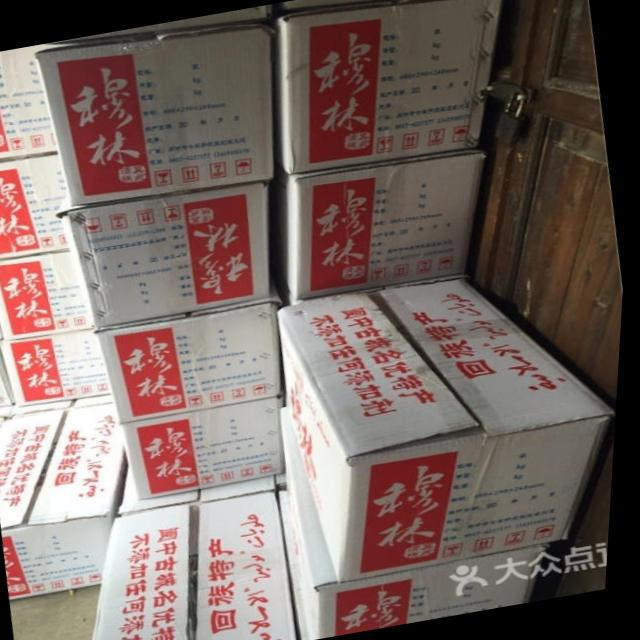box: (281, 277, 621, 584), (285, 408, 551, 640), (35, 24, 276, 206), (276, 0, 502, 173), (59, 180, 275, 328), (283, 147, 486, 301), (100, 489, 305, 640), (0, 402, 134, 600), (98, 296, 286, 423), (127, 395, 290, 499), (2, 330, 116, 405), (0, 249, 95, 338), (0, 44, 70, 159), (0, 152, 71, 258)
